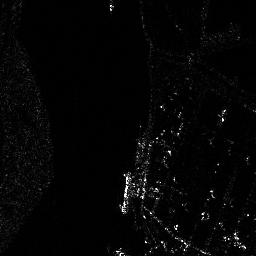ship: (119, 171, 132, 214)
